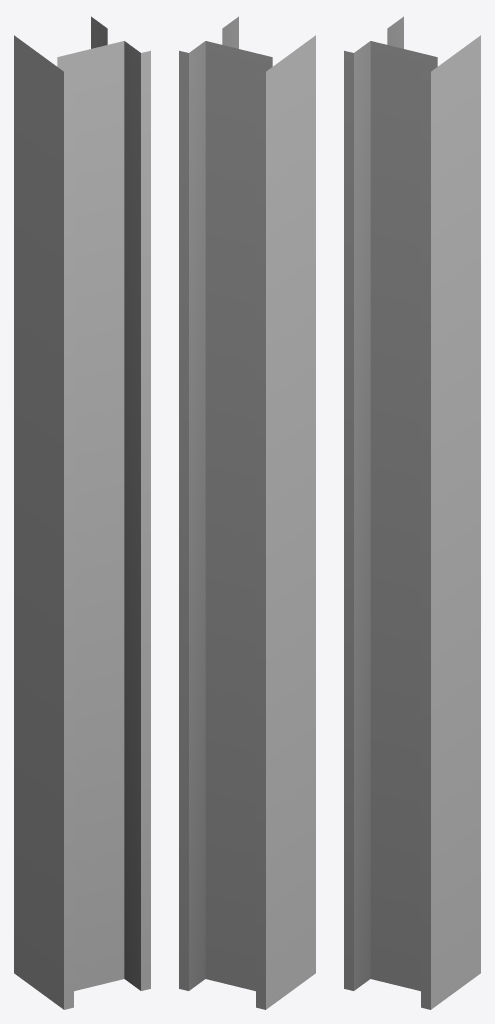
File: AMB_IRONCHU.glb
The picture shows the model from 3 angles, left to right: view 1: azimuth 30°, elevation 25°; view 2: azimuth 150°, elevation 25°; view 3: azimuth 330°, elevation 25°; orthographic projection.
Parts seen in each view (by area): view 1: obj1; view 2: obj1; view 3: obj1.
Part boxes in pixels (x1,y1,x2,y2): obj1: (14, 16, 150, 1009); obj1: (179, 16, 315, 1009); obj1: (344, 16, 480, 1009).
Size of the model in its own units: 3 by 30.99 by 3.
1 material, 1 textured.
